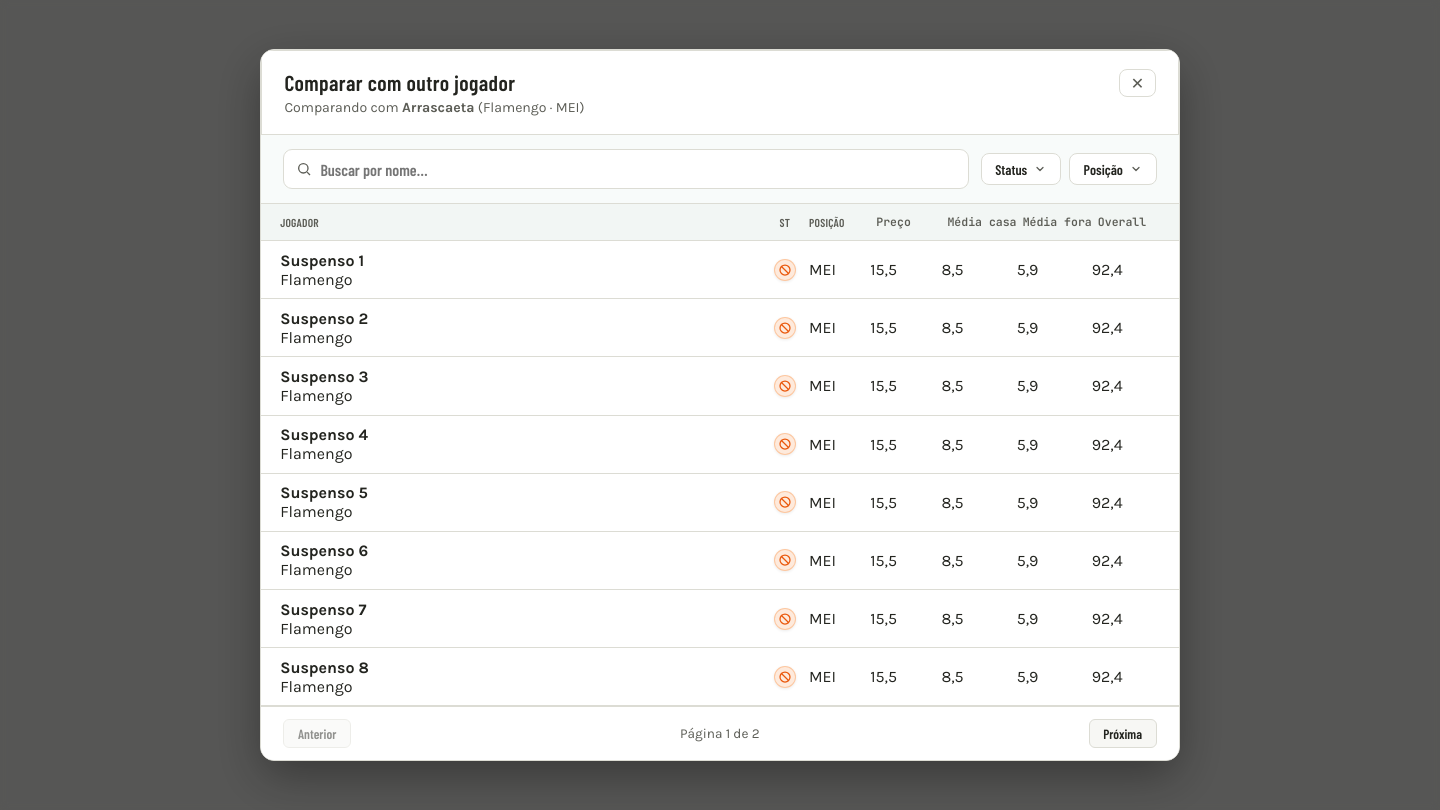
Test: ModalCompararJogador › reseta para a página 1 ao alterar o filtro de status enquanto estava em outra página
Expected: the text "Suspenso 1" is shown, [280,250,364,270]
Step 1. Click the button "Próxima" → (1123, 734), box [1089,719,1157,748]
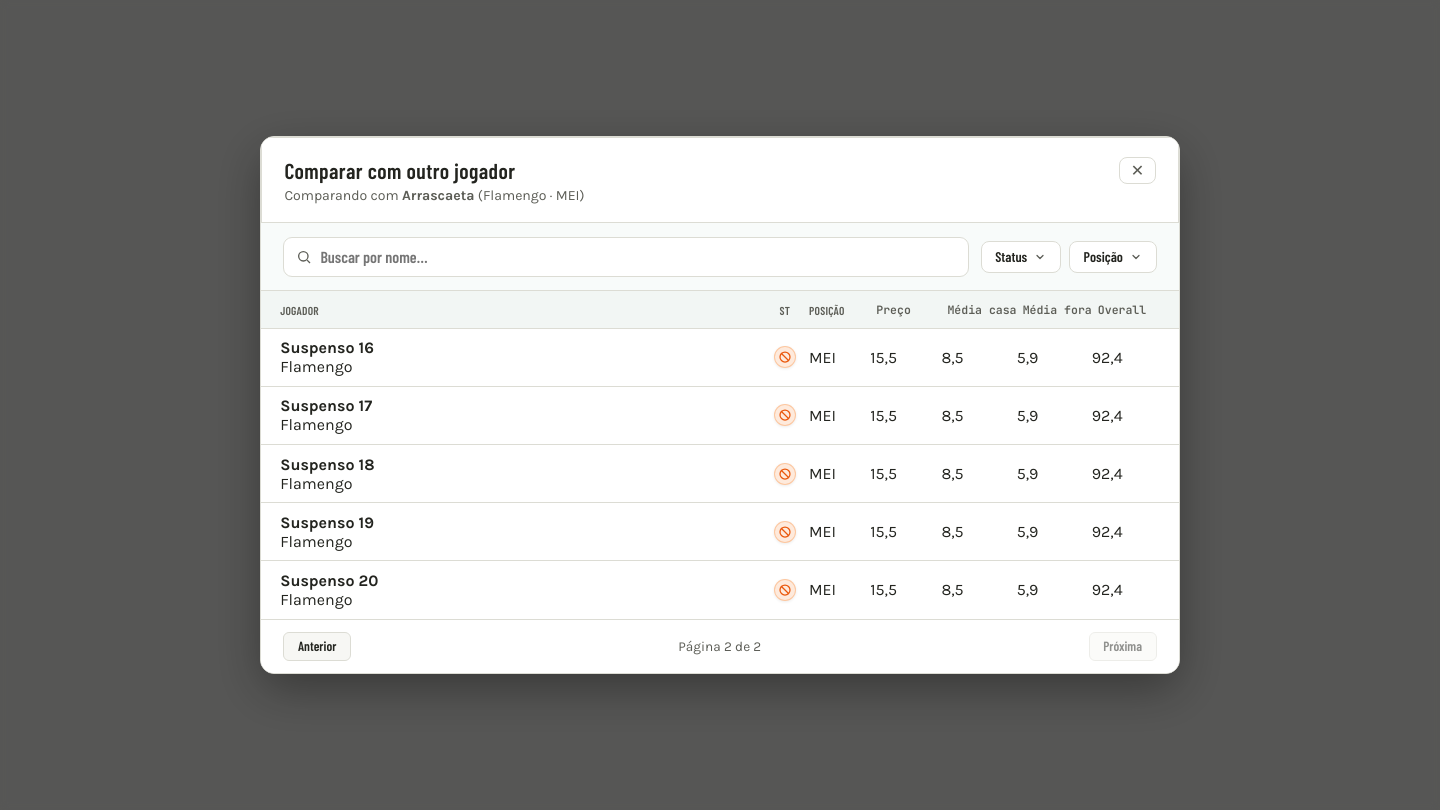
Now the text "Página 2 de 2" is shown, box [678,639,761,654]
Step 2. Click the button "Status" → (1021, 257), box [981,241,1061,273]
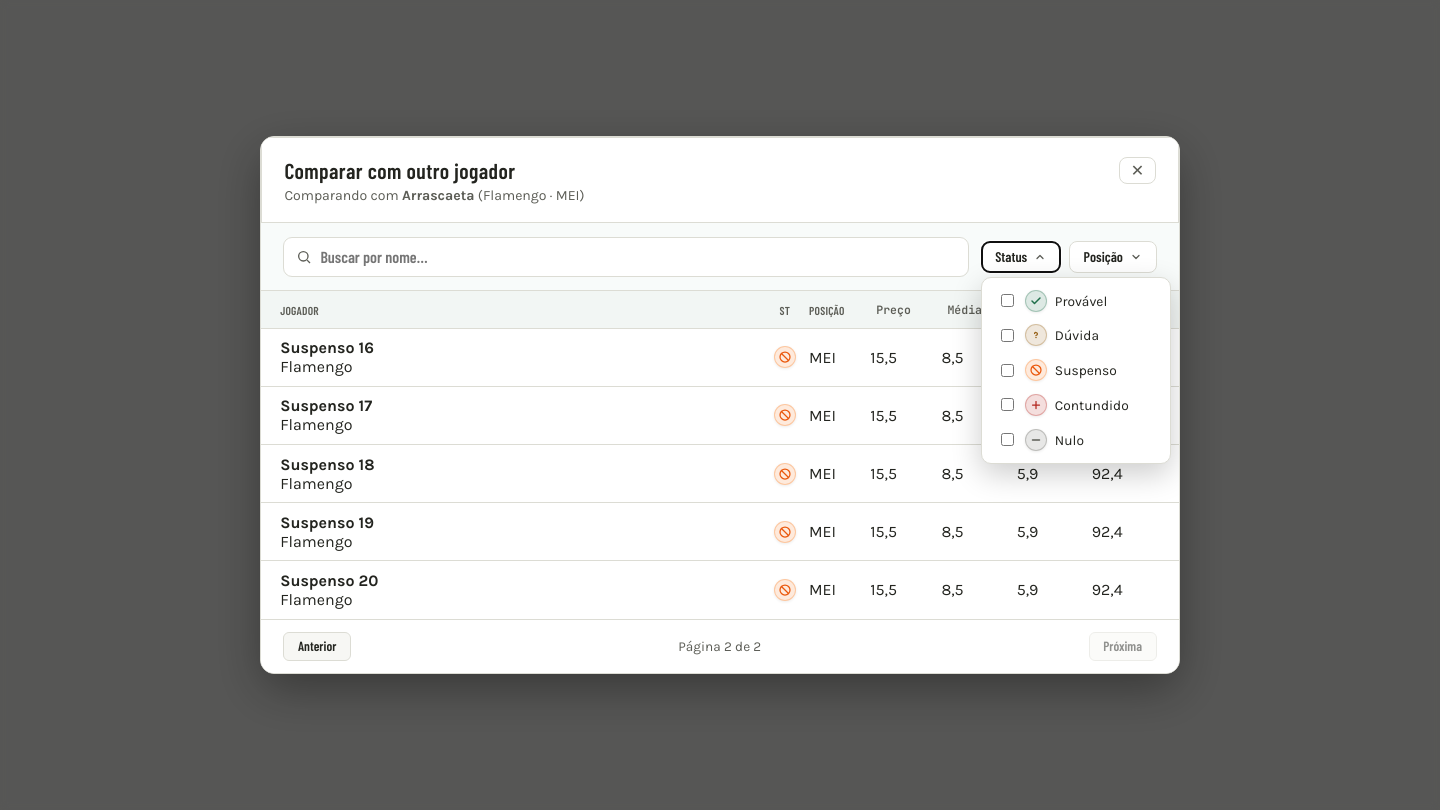
Step 3. Click the option "Suspenso" → (1059, 370), box [1001,359,1117,381]
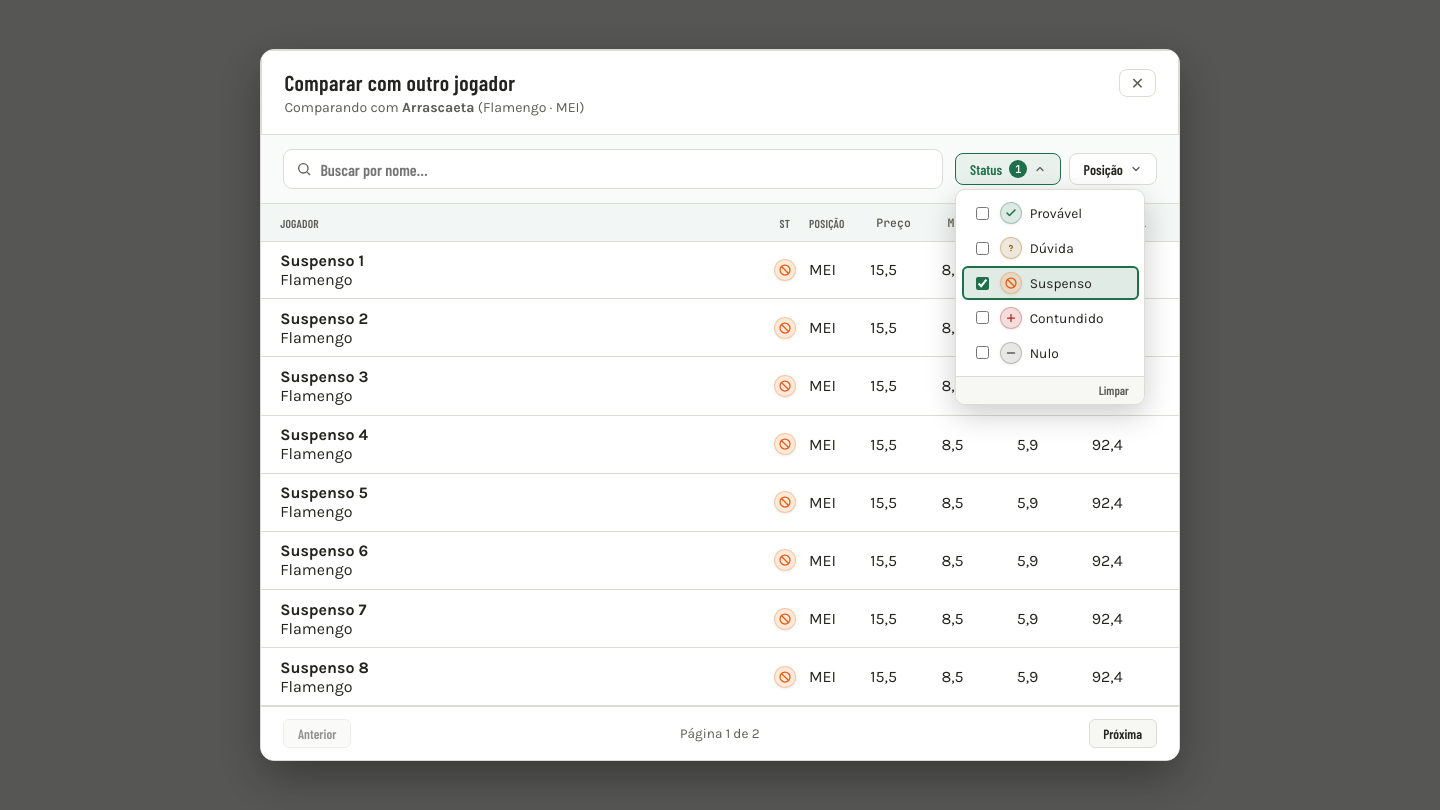
Now the text "Página 1 de 2" is shown, box [680,726,760,741]
